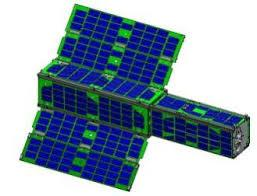body: (35, 55, 252, 161)
solar: (54, 1, 188, 91), (16, 106, 151, 194), (25, 74, 149, 135), (38, 56, 163, 104), (149, 106, 235, 163), (154, 91, 250, 132)
